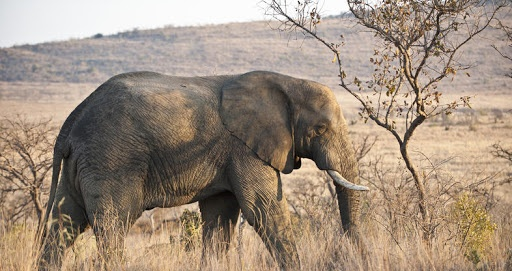elephant: (31, 69, 369, 266)
